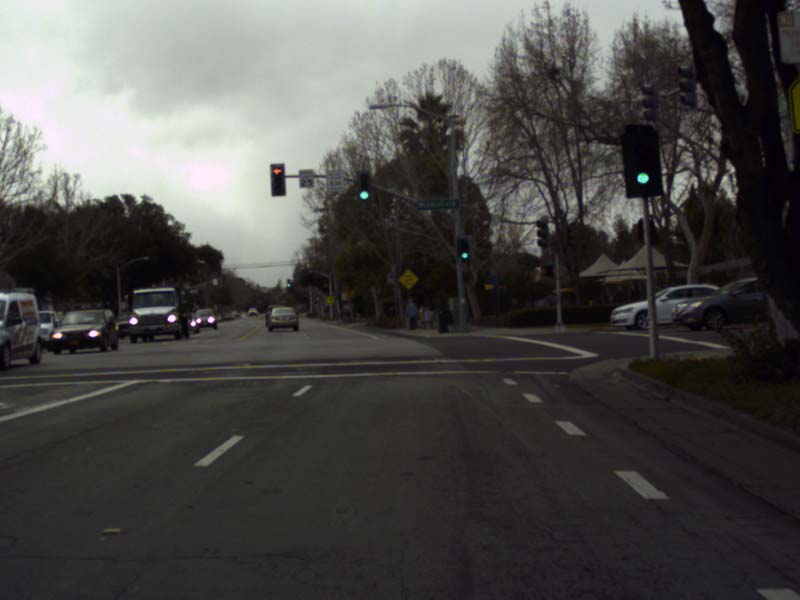Green: (625, 132, 657, 192), (357, 171, 370, 201), (459, 237, 470, 261), (286, 278, 291, 288)
Red: (271, 165, 283, 195)
